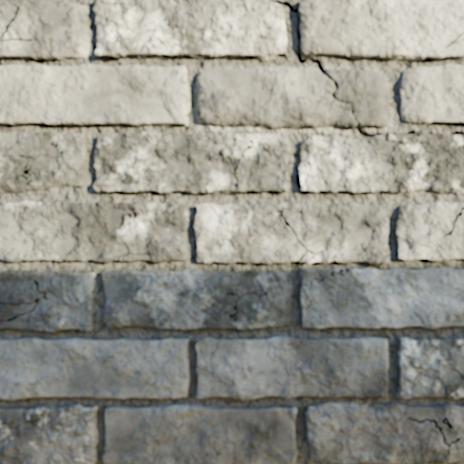brick: (94, 131, 290, 193), (196, 336, 387, 399), (195, 203, 388, 264), (0, 338, 189, 399), (0, 201, 188, 262), (103, 404, 296, 463), (0, 65, 189, 125), (94, 0, 286, 59), (101, 270, 292, 329), (299, 131, 463, 193), (299, 0, 463, 60), (301, 268, 463, 328), (306, 402, 463, 463), (0, 404, 97, 463), (0, 271, 95, 331), (0, 0, 89, 60), (0, 132, 87, 193), (397, 338, 463, 398), (395, 202, 463, 260), (399, 64, 463, 124), (300, 268, 340, 288), (0, 304, 33, 318), (302, 253, 311, 261)
broken_brick: (196, 67, 389, 130)
crack: (270, 0, 338, 89), (276, 208, 325, 263), (405, 417, 462, 463), (299, 267, 353, 311), (0, 278, 48, 322), (216, 139, 253, 192), (0, 5, 33, 42), (443, 206, 463, 238), (102, 252, 150, 262), (209, 340, 220, 375), (356, 127, 382, 137), (95, 0, 117, 5), (399, 130, 418, 135), (448, 130, 463, 136), (194, 337, 201, 344), (427, 131, 433, 135)
